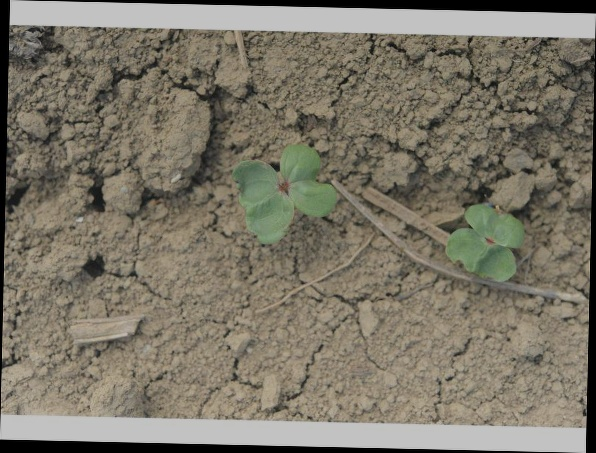cotton: (230, 144, 333, 246), (447, 201, 524, 282)
